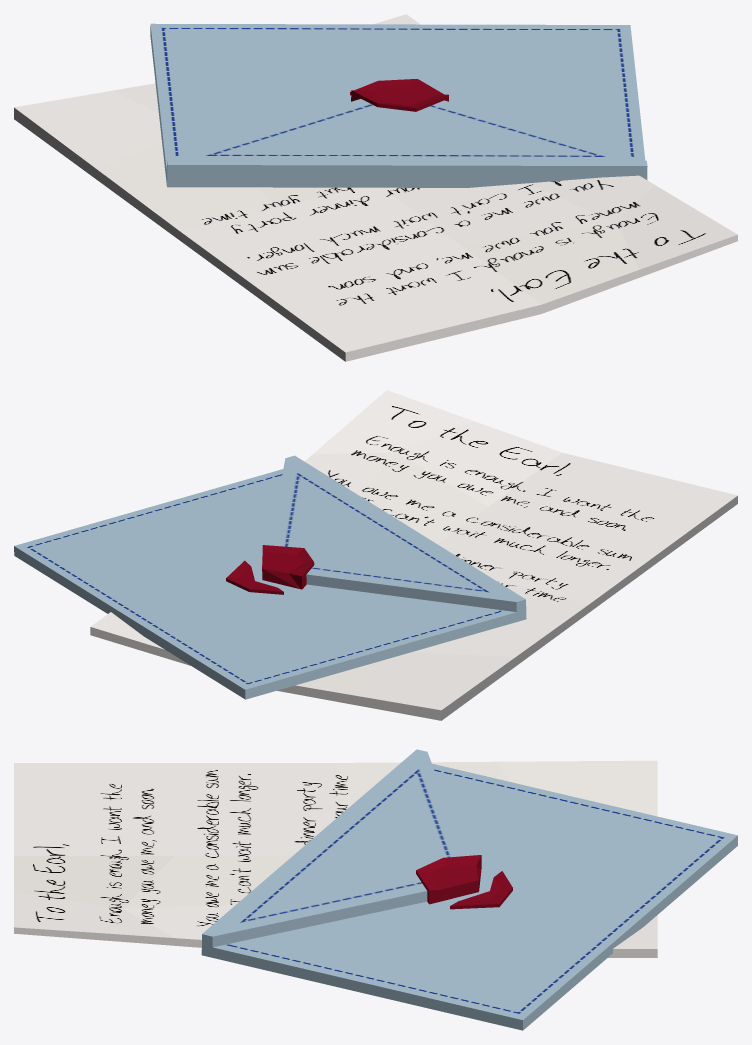
File: letter.fbx
3 views of the same model, one above another, from view 1: azimuth 30°, elevation 25°; view 2: azimuth 150°, elevation 25°; view 3: azimuth 270°, elevation 25° (orthographic). The views are drawn at different scales.
Visible parts, largest first — view 1: letter; view 2: letter; view 3: letter.
Part boxes in pixels (x1,y1,x2,y2): letter: (14, 14, 737, 361); letter: (14, 390, 737, 720); letter: (14, 749, 737, 1030).
Bounding box in the file's own units: 1.4 × 0.1224 × 1.66.
Materials: 2 (1 with a texture image).
